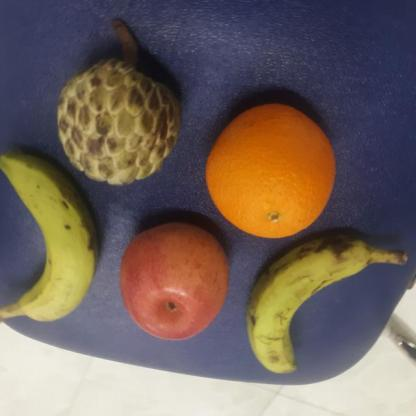annona: (57, 57, 186, 191)
apple: (115, 219, 233, 343)
banana: (240, 226, 372, 377), (0, 146, 99, 323)
